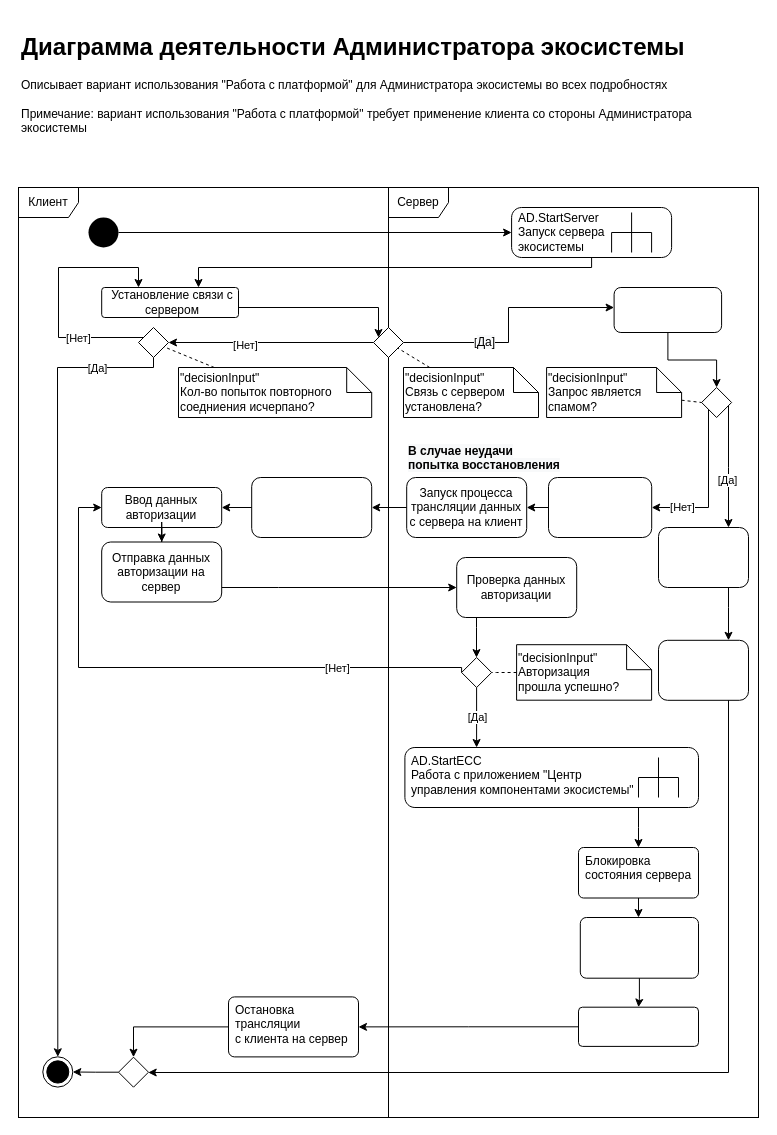
Some shapes in this 777 by 1135 pixel diagram are drawn without their labels. The shapes that lost their labels are listed below. From the top down, each one's box as (x1, y1, x2, y2) in pixels, then its label:
(613, 286, 722, 332): Проверка запроса на спам
(251, 476, 372, 538): Запуск процесса трансляции данных с клиента на сервер
(548, 476, 652, 538): Инициализация сессии пользователя
(658, 526, 748, 588): Внести IP-адрес в чёрный список
(658, 639, 748, 700): Завершение соединения с клиентом
(579, 916, 698, 978): Остановка трансляции с сервера на клиент
(578, 1006, 698, 1046): Выход из учетной записи
